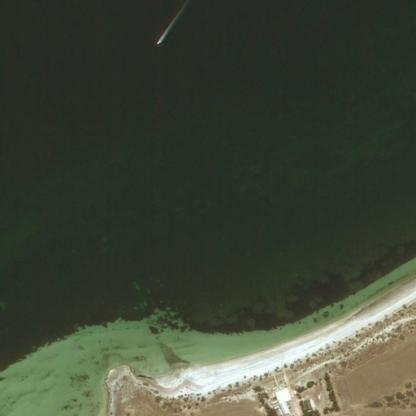ship: (156, 41, 158, 44)
